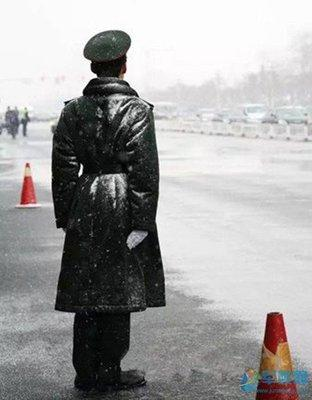up: (41, 25, 176, 397)
